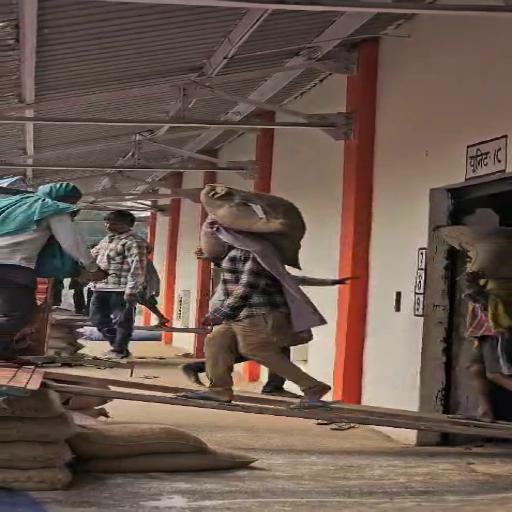bag: (193, 178, 307, 263), (423, 219, 512, 287)
